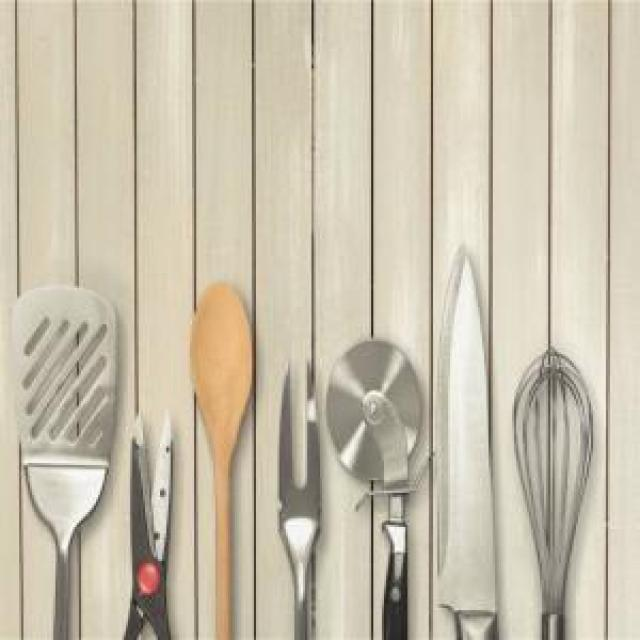knife: (433, 239, 499, 638)
